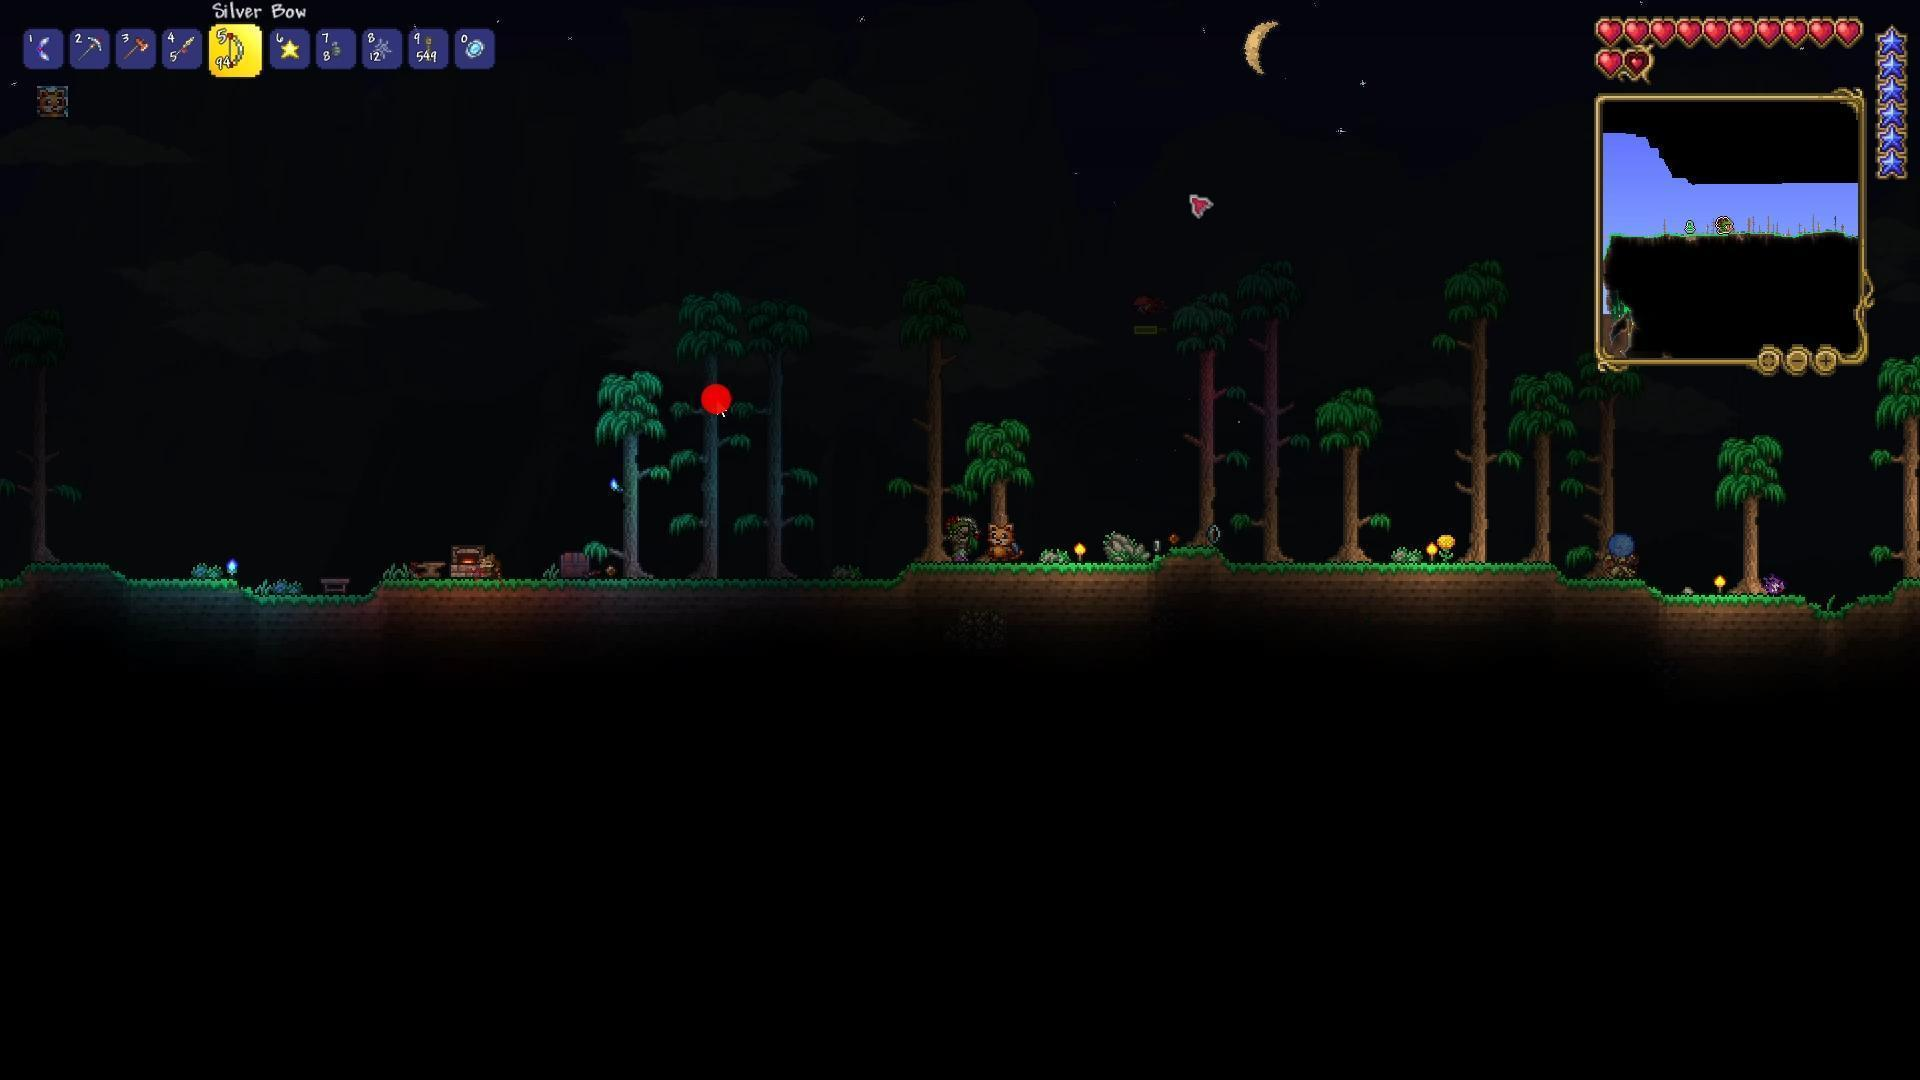anvil: (411, 553, 450, 585)
axe: (112, 22, 161, 75)
bow: (204, 18, 265, 82)
chest: (555, 542, 595, 585)
cobwebI: (371, 36, 394, 62)
furnace: (448, 542, 498, 587)
grenade: (311, 24, 359, 79)
mirror: (450, 22, 502, 75)
pickaxe: (63, 20, 115, 83)
tree: (670, 272, 750, 607), (1159, 278, 1241, 574), (583, 356, 676, 604), (1294, 363, 1396, 575), (1495, 347, 1575, 571), (1858, 334, 1920, 611), (953, 409, 1056, 574)
